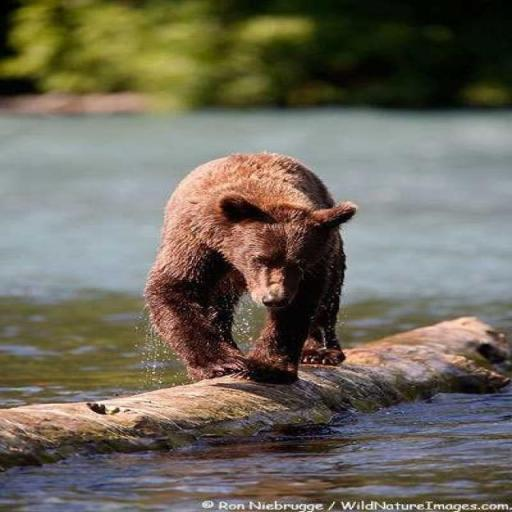Bear: (142, 150, 357, 384)
